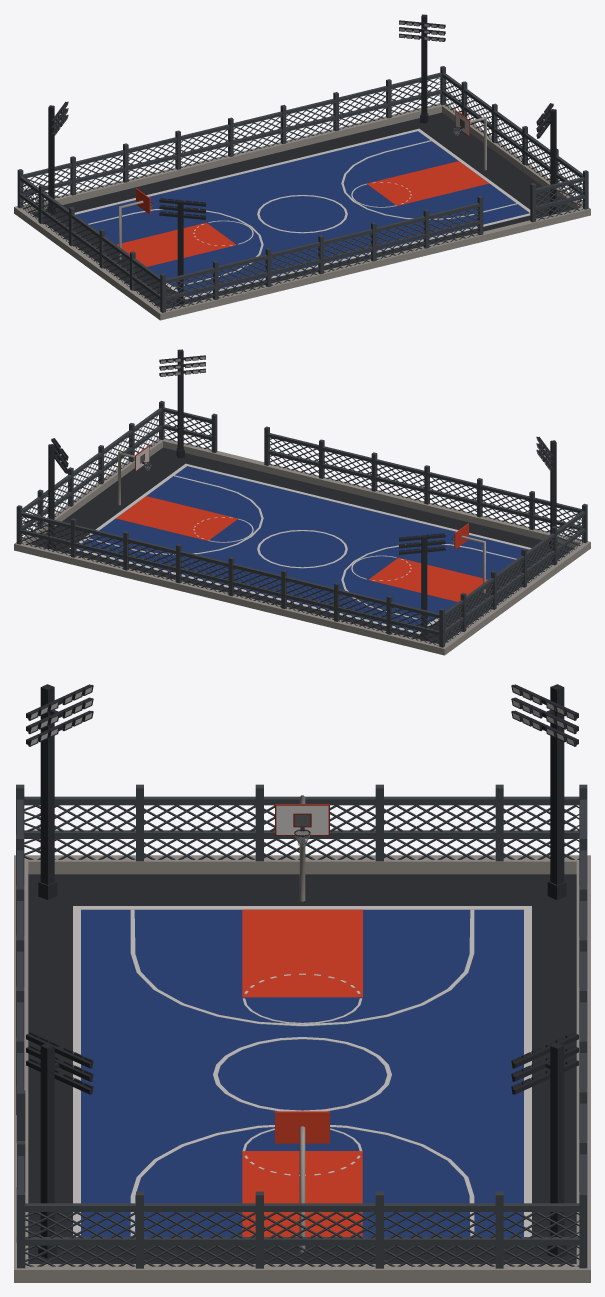
The model's file is BasketBallStadium_1.fbx.
3 renders of one model, top to bottom at view 1: azimuth 30°, elevation 25°; view 2: azimuth 150°, elevation 25°; view 3: azimuth 270°, elevation 25°, orthographic. The views are drawn at different scales.
Visible parts, largest first — view 1: BasketBallStadium_1; view 2: BasketBallStadium_1; view 3: BasketBallStadium_1.
Boxes of the visible parts, x1,y1,x2,y2 form: BasketBallStadium_1: [14, 14, 590, 320]; BasketBallStadium_1: [14, 349, 590, 655]; BasketBallStadium_1: [14, 684, 590, 1282].
Size of the model in its own units: 1700 by 406 by 1000.
